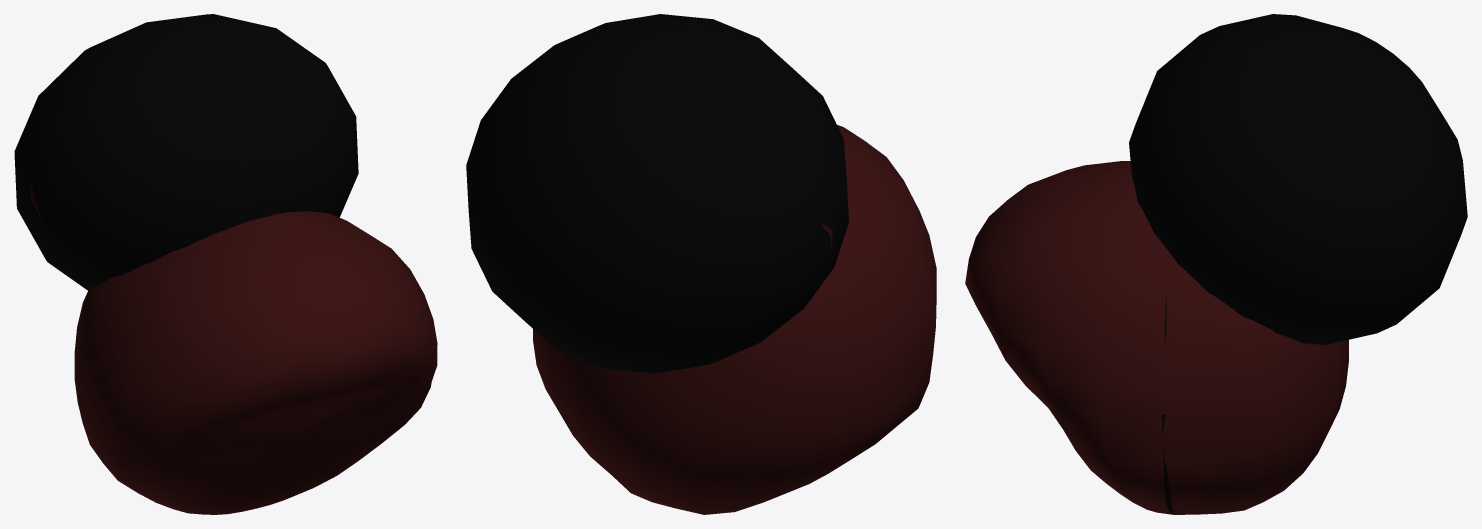
File: Start_1.fbx
The picture shows the model from 3 angles, left to right: view 1: azimuth 30°, elevation 25°; view 2: azimuth 150°, elevation 25°; view 3: azimuth 270°, elevation 25°; orthographic projection. The views are drawn at different scales.
Parts seen in each view (by area): view 1: hair_03; view 2: hair_03; view 3: hair_03.
Boxes of the visible parts, <box> form: hair_03: <box>14,14,437,514</box>; hair_03: <box>466,14,936,514</box>; hair_03: <box>965,14,1467,514</box>.
Size of the model in its own units: 35.3 by 47.59 by 46.81.
